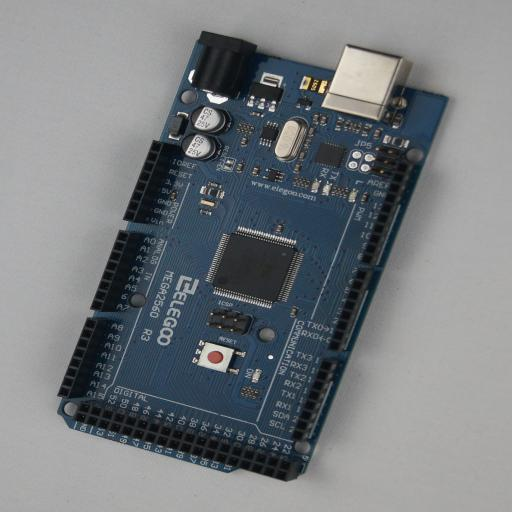Arduino Mega 2560 -Blue-: (57, 30, 449, 482)
